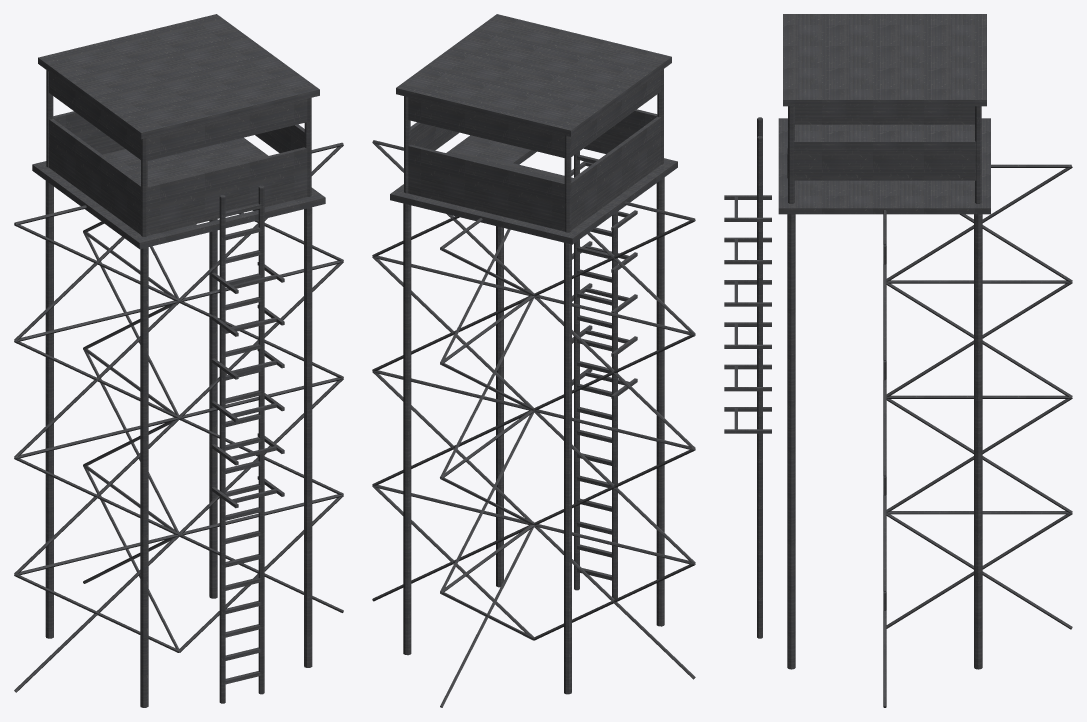
File: watchtower_metal.glb
3 renders of one model, left to right at view 1: azimuth 30°, elevation 25°; view 2: azimuth 150°, elevation 25°; view 3: azimuth 270°, elevation 25°, orthographic.
Visible parts, largest first — view 1: watchtower_metal; view 2: watchtower_metal; view 3: watchtower_metal.
Part boxes in pixels (x1,y1,x2,y2): watchtower_metal: (14, 14, 343, 707); watchtower_metal: (372, 14, 695, 707); watchtower_metal: (724, 14, 1072, 707).
Size of the model in its own units: 4.42 by 7.43 by 4.1.
Materials: 1 (1 with a texture image).
